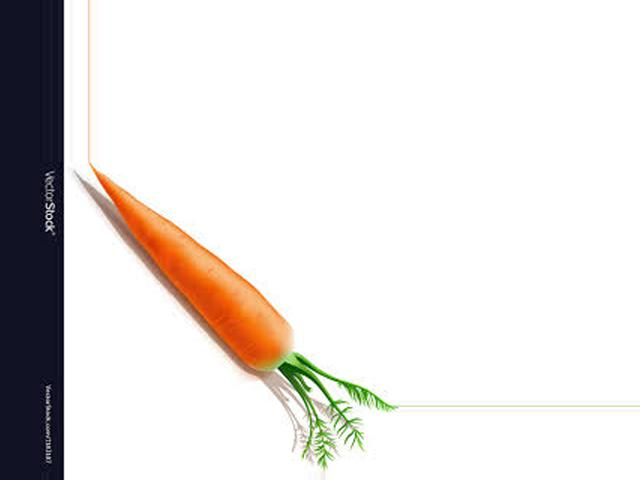carrot: (82, 167, 349, 400)
